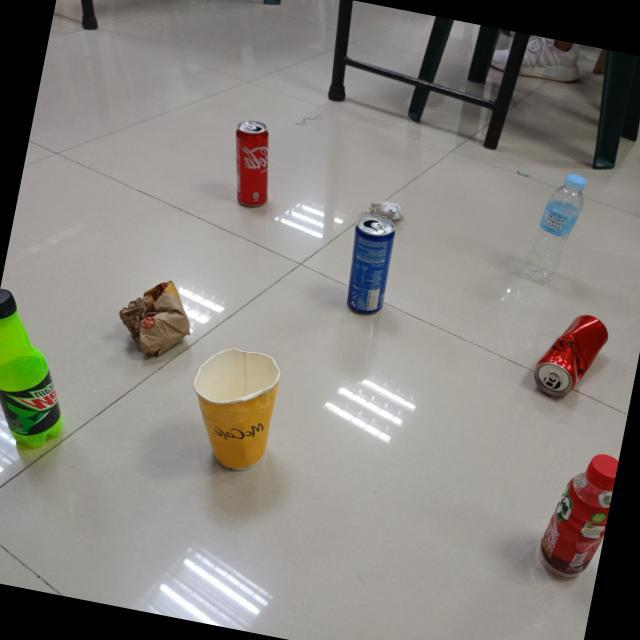recyclable waste: (172, 334, 292, 486), (0, 281, 94, 457), (528, 439, 620, 589), (106, 265, 207, 369), (514, 165, 592, 292), (528, 301, 618, 409), (336, 207, 404, 321), (218, 112, 286, 215), (362, 194, 410, 229)
